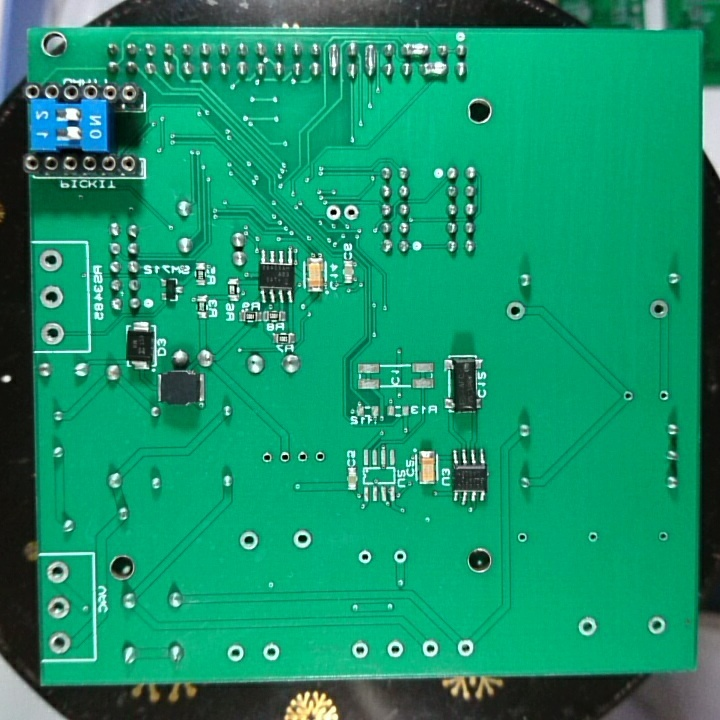F: (39, 319, 67, 347), (36, 249, 66, 275), (38, 283, 64, 312), (45, 559, 72, 586), (45, 594, 72, 620), (235, 529, 262, 555), (647, 295, 671, 323), (48, 629, 73, 655), (576, 614, 599, 640), (645, 614, 668, 638), (259, 640, 282, 664), (504, 300, 527, 322), (455, 637, 477, 660), (349, 638, 371, 661), (225, 642, 247, 665), (292, 528, 313, 552), (420, 638, 442, 660), (388, 546, 409, 567), (385, 638, 405, 660), (354, 546, 374, 568), (342, 201, 361, 224), (323, 202, 342, 222), (274, 447, 294, 466), (295, 446, 312, 467), (654, 526, 671, 546), (619, 386, 635, 406), (311, 445, 326, 466), (656, 384, 671, 404), (514, 530, 531, 547), (585, 529, 601, 547), (259, 449, 275, 466)
P: (417, 58, 451, 79), (362, 41, 379, 80), (324, 42, 342, 76), (399, 40, 432, 58)
